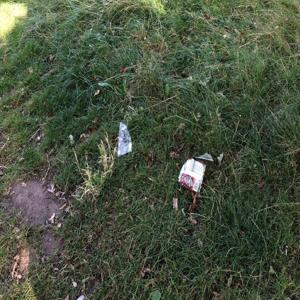plastic: (164, 153, 222, 220), (109, 117, 138, 166)
